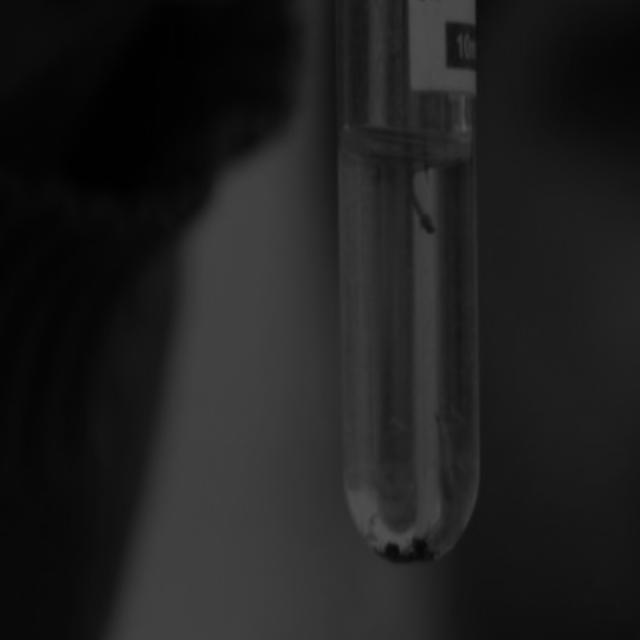larvas: (408, 163, 435, 234), (437, 408, 450, 497)
